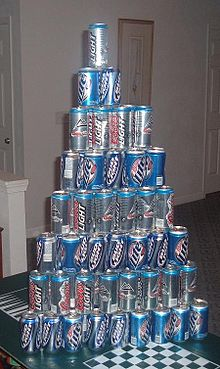beer can: (51, 193, 79, 236), (75, 67, 102, 111), (57, 152, 85, 194), (87, 23, 112, 70), (67, 107, 93, 152), (108, 103, 132, 151), (24, 275, 51, 317), (72, 189, 96, 236), (88, 103, 111, 152), (88, 313, 113, 356), (93, 191, 116, 236), (116, 187, 138, 234), (51, 273, 75, 316), (95, 273, 119, 316), (34, 234, 61, 272), (136, 274, 162, 313), (130, 106, 153, 150), (151, 187, 173, 233), (167, 227, 190, 271), (123, 151, 147, 193), (61, 235, 85, 277), (116, 273, 140, 315), (142, 146, 165, 189), (159, 270, 182, 313), (20, 315, 45, 354), (124, 236, 151, 271), (73, 276, 96, 317), (134, 188, 155, 232), (105, 237, 128, 277), (169, 305, 193, 343), (187, 305, 212, 341), (42, 315, 65, 354), (176, 271, 200, 308), (102, 150, 124, 189), (83, 236, 105, 275), (65, 317, 88, 354), (98, 69, 120, 107), (82, 150, 102, 191), (130, 312, 151, 350), (152, 312, 173, 348), (147, 234, 165, 273), (112, 316, 129, 348)
